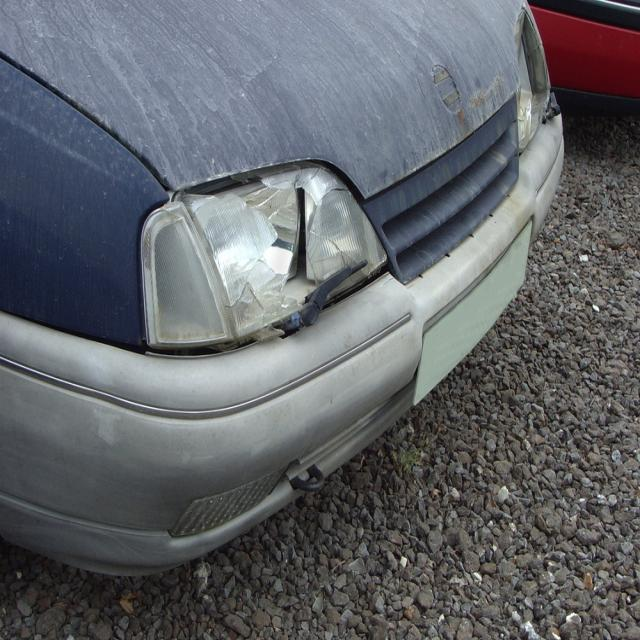lamp broken: (141, 163, 391, 354), (518, 2, 549, 153)
